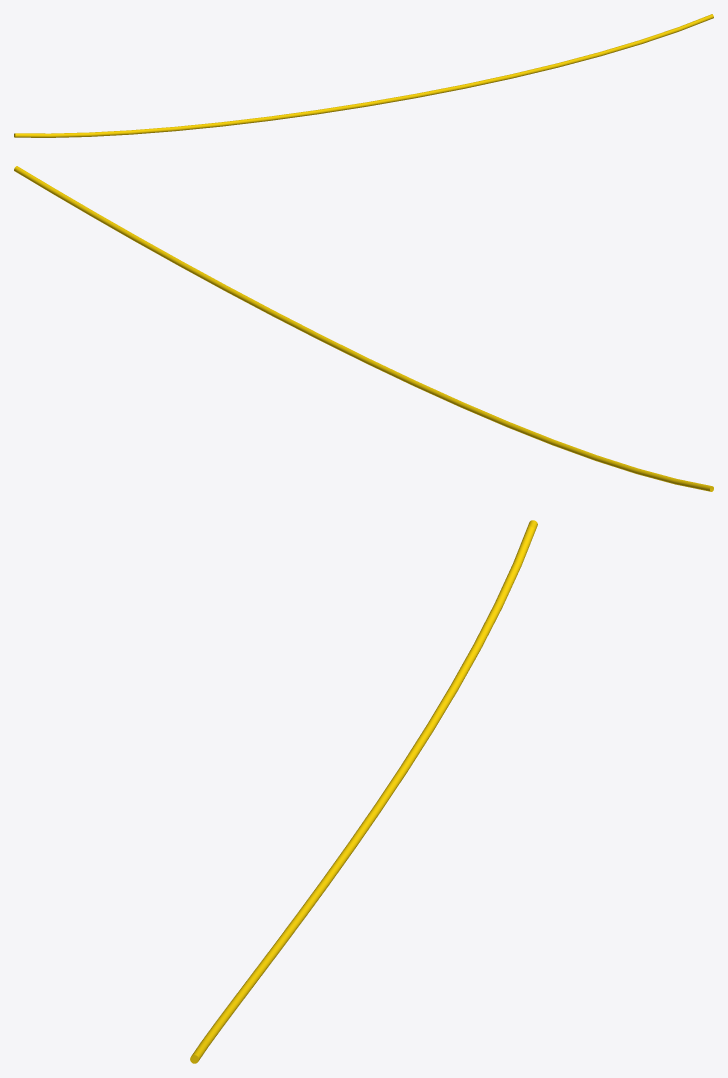
The model's file is Event_420107950_track_26.fbx.
3 renders of one model, top to bottom at view 1: azimuth 30°, elevation 25°; view 2: azimuth 150°, elevation 25°; view 3: azimuth 270°, elevation 25°, orthographic. The views are drawn at different scales.
Parts seen in each view (by area): view 1: Model; view 2: Model; view 3: Model.
Part boxes in pixels (box(x1,y1,x2,y2)): Model: box(14, 14, 713, 137); Model: box(14, 166, 713, 491); Model: box(190, 520, 537, 1063).
Size of the model in its own units: 6.34 by 0.4911 by 1.55.
